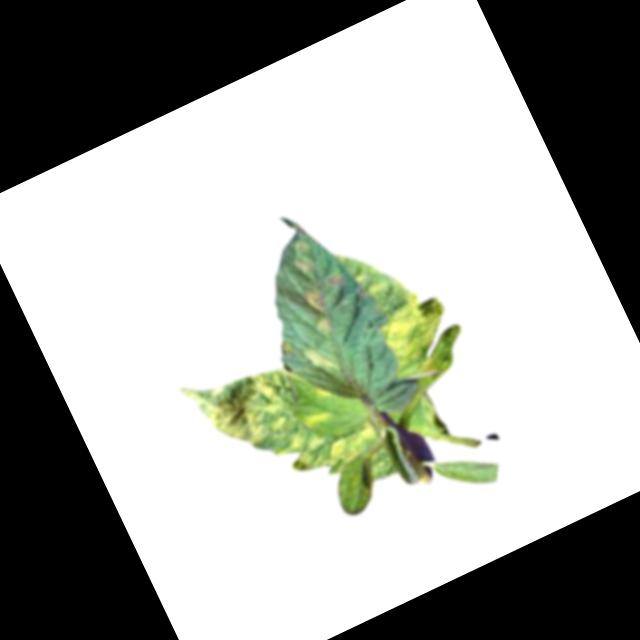Leaf_Mold: (177, 343, 317, 488), (363, 274, 475, 389), (292, 418, 386, 483), (297, 336, 342, 384), (301, 286, 331, 320), (301, 404, 336, 431), (312, 314, 335, 338)
